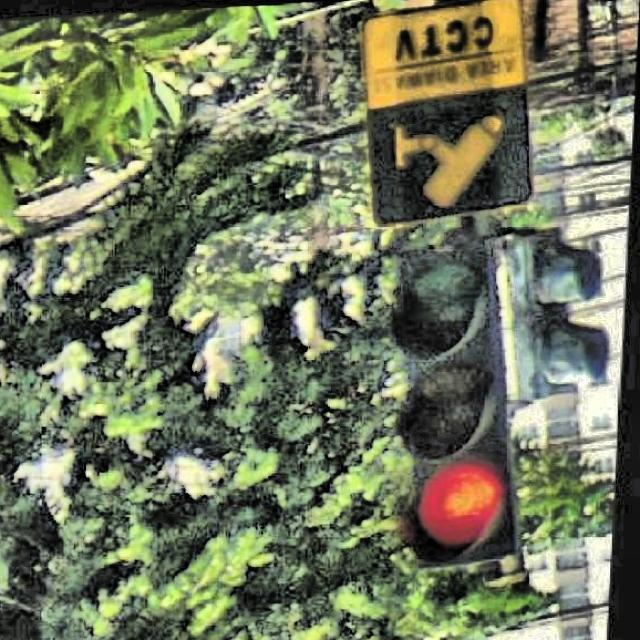red: (406, 235, 514, 574)
